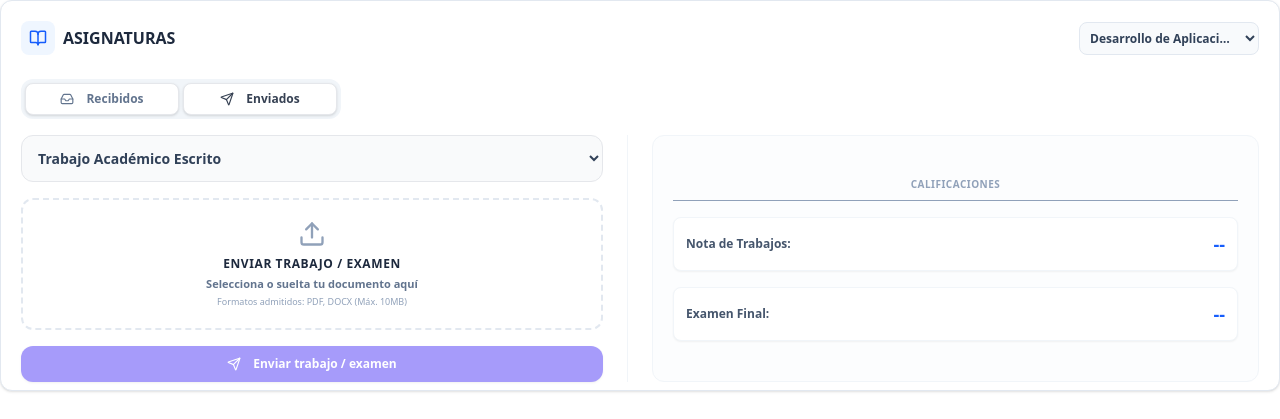
Test: CourseAssignmentPanel - Suite de Pruebas Unitarias [ADR-47] › debe mostrar error si falla la descarga segura
Click the button "Recibidos".
click(102, 99)  # box x1=25 y1=83 x2=179 y2=115
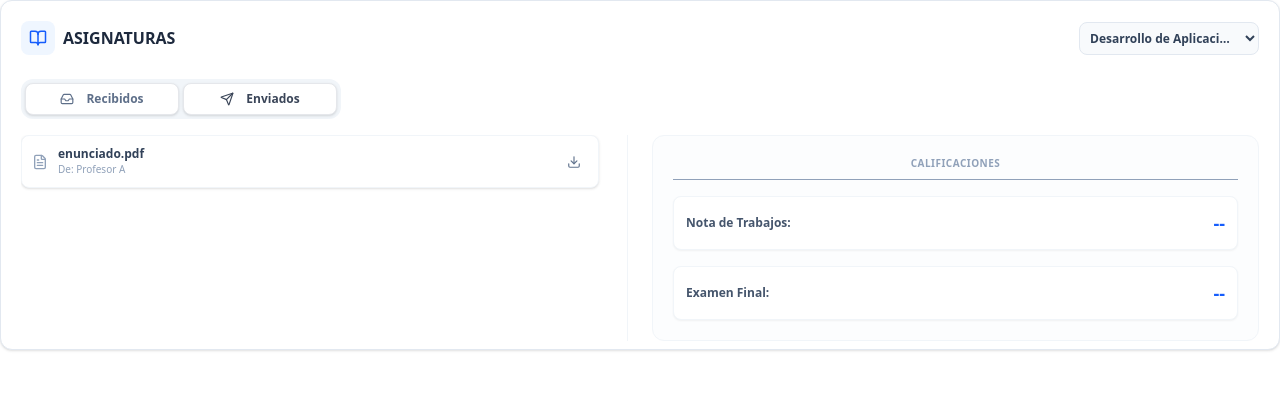
Result: the text "enunciado.pdf" is shown at x1=58 y1=145 x2=144 y2=162
Click the button named "Descargar documento seguro".
click(574, 162)  # box x1=560 y1=148 x2=588 y2=176
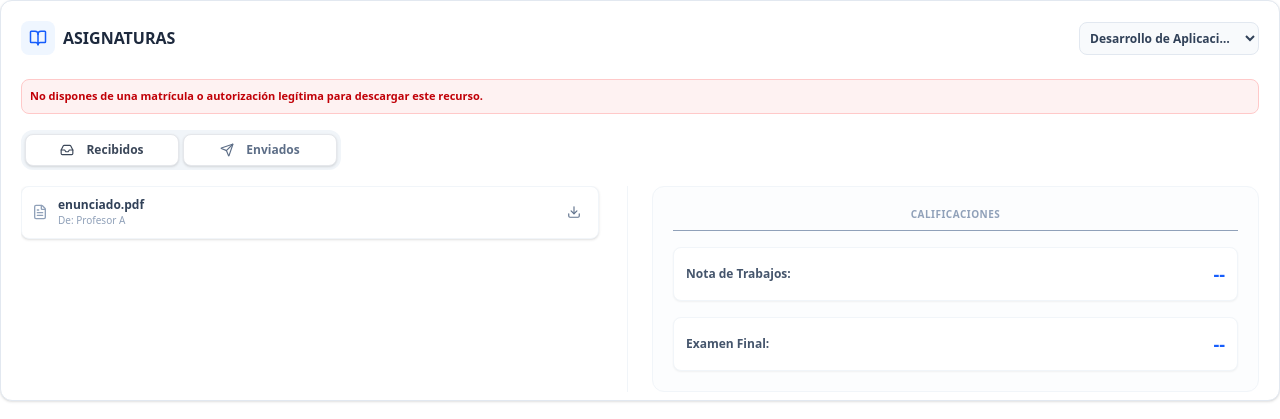
Result: the text "No dispones de una matrícula o autorización legítima" is shown at x1=30 y1=88 x2=483 y2=103
